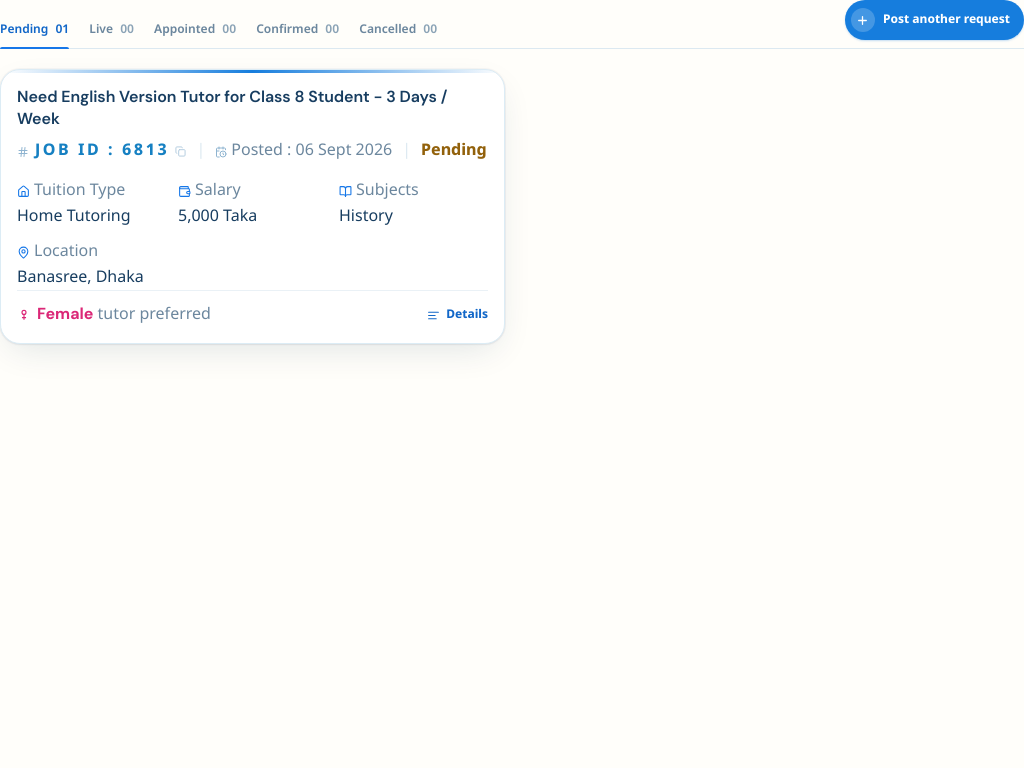
Scenario: the Tutoring Time a Guardian asked for › shows it as 4:30 PM in the Posted jobs details dialog
The width and height of the screenshot is (1024, 768).
What coordinates should you click on to do the following:
click the button named "Job ID 6813"
I would click on:
 (252, 206)
Its box is [0,69,505,344].
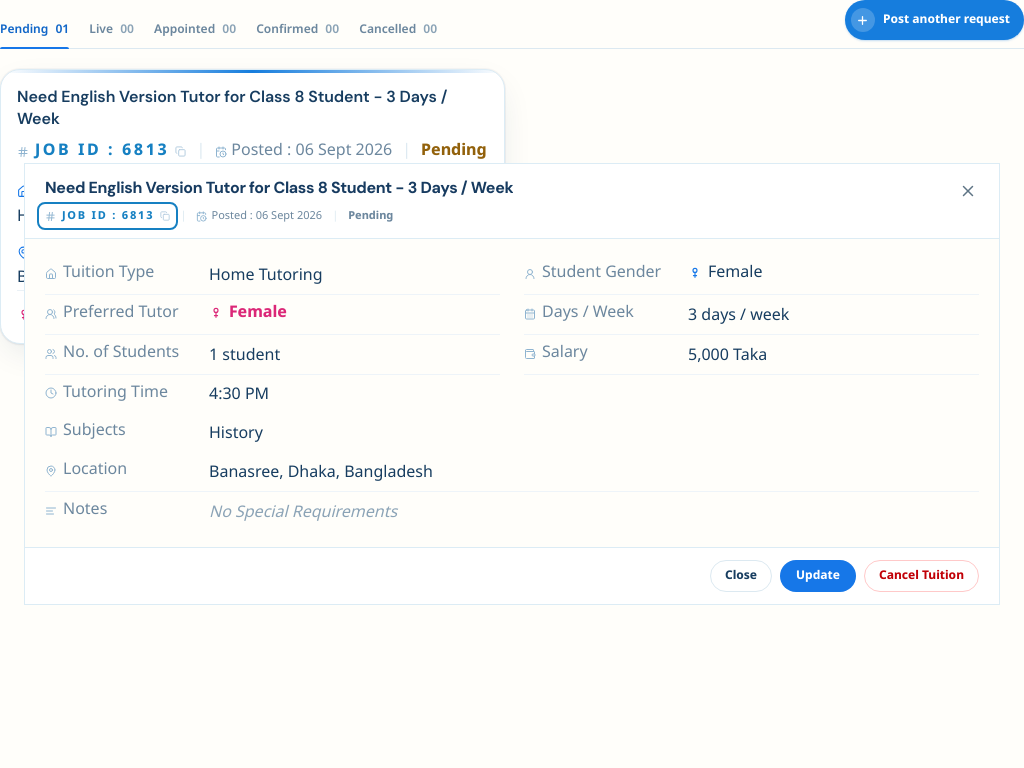
Check: the text "4:30 PM" is shown, box [209,384,269,406]
